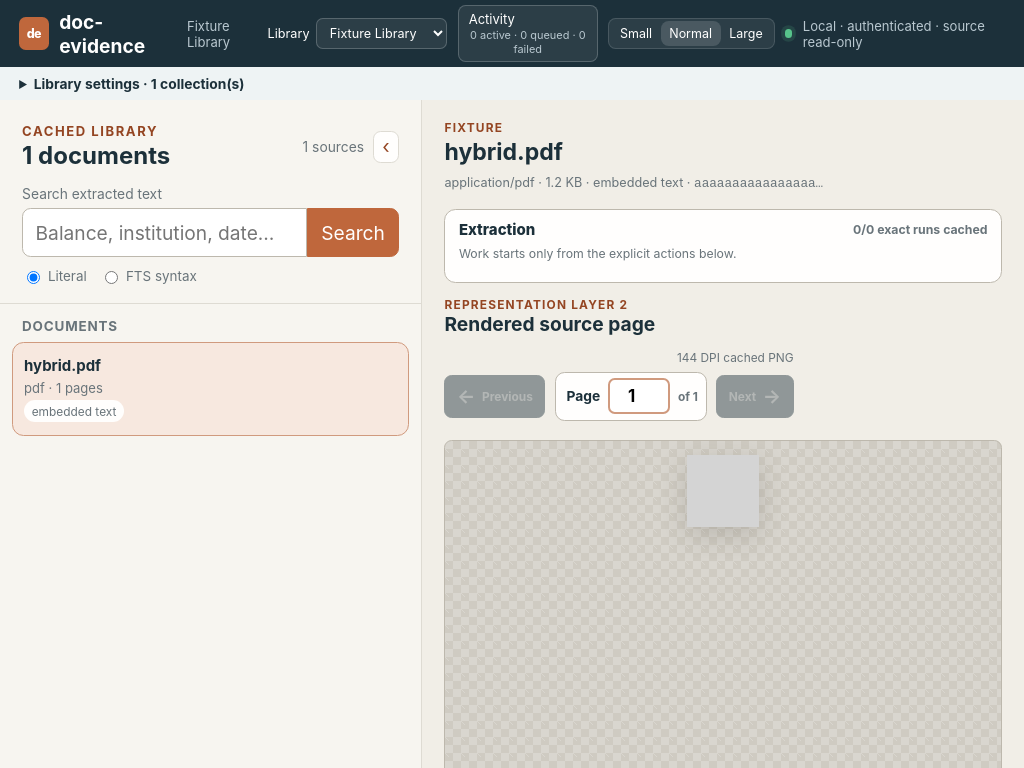
Test: application states › switches explicit library identity and exposes collection settings
The image size is (1024, 768).
Select "Second Library" in the dropdown named "Active library": coordinates (382, 34) 316,18 -> 448,49
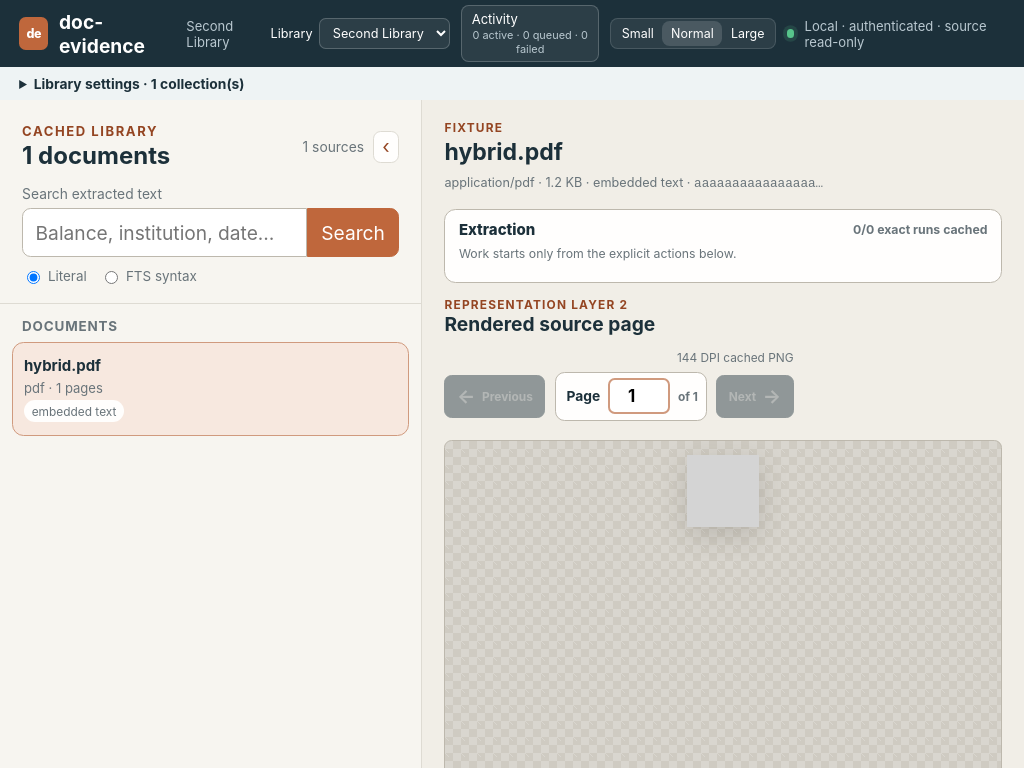
Check: the heading "Library settings · 1 collection(s)" is shown, box 34,76 -> 245,92
Check: the dropdown named "Active library" shows "Second Library", box 319,18 -> 450,49
